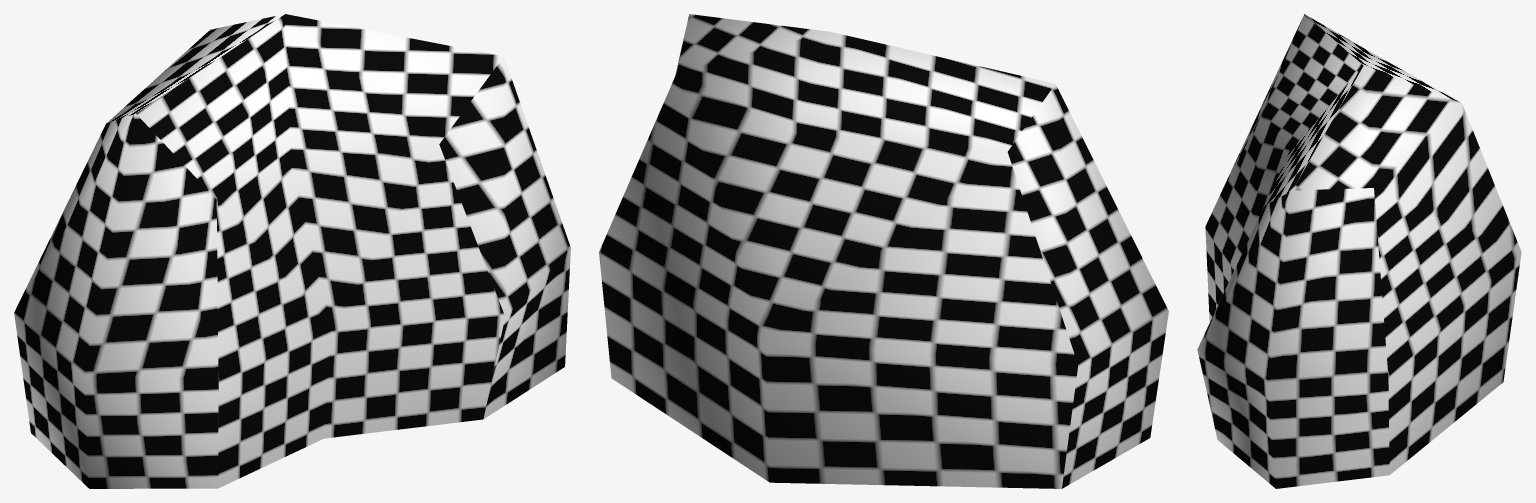
Rendered from nast27.dae.
The picture shows the model from 3 angles, left to right: view 1: azimuth 30°, elevation 25°; view 2: azimuth 150°, elevation 25°; view 3: azimuth 270°, elevation 25°; orthographic projection. The views are drawn at different scales.
Parts seen in each view (by area): view 1: crown; view 2: crown; view 3: crown.
Boxes of the visible parts, x1,y1,x2,y2 form: crown: (14, 14, 570, 488); crown: (599, 14, 1168, 488); crown: (1197, 14, 1521, 488).
Size of the model in its own units: 1.77 by 1.15 by 1.27.
1 material, 1 textured.
